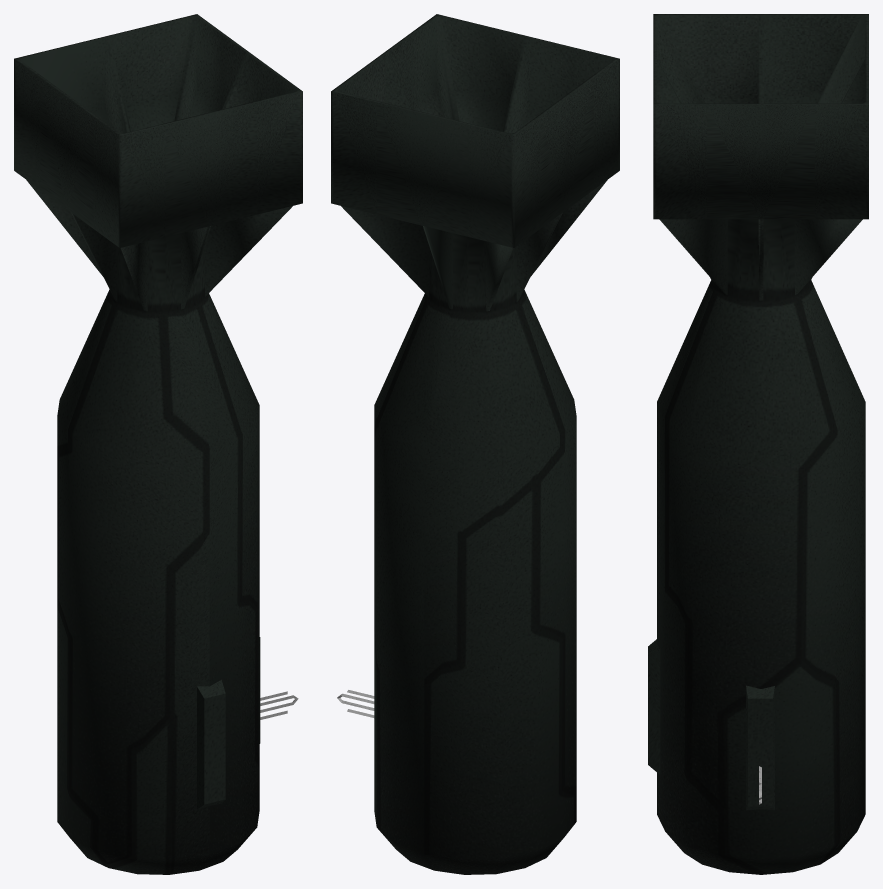
File: littleboy.fbx
3 renders of one model, left to right at view 1: azimuth 30°, elevation 25°; view 2: azimuth 150°, elevation 25°; view 3: azimuth 270°, elevation 25°, orthographic.
Parts seen in each view (by area): view 1: Circle.001; view 2: Circle.001; view 3: Circle.001.
Part boxes in pixels (box(x1,y1,x2,y2)): Circle.001: box(14, 14, 302, 874); Circle.001: box(331, 14, 619, 874); Circle.001: box(648, 14, 868, 874).
Bounding box in the file's own units: 318 × 1033 × 258.
Materials: 1 (1 with a texture image).
